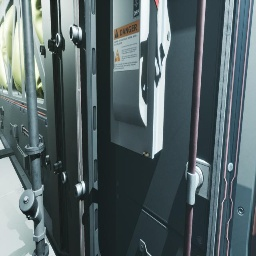SafetySwitchPanel ,: (110, 0, 171, 159)
